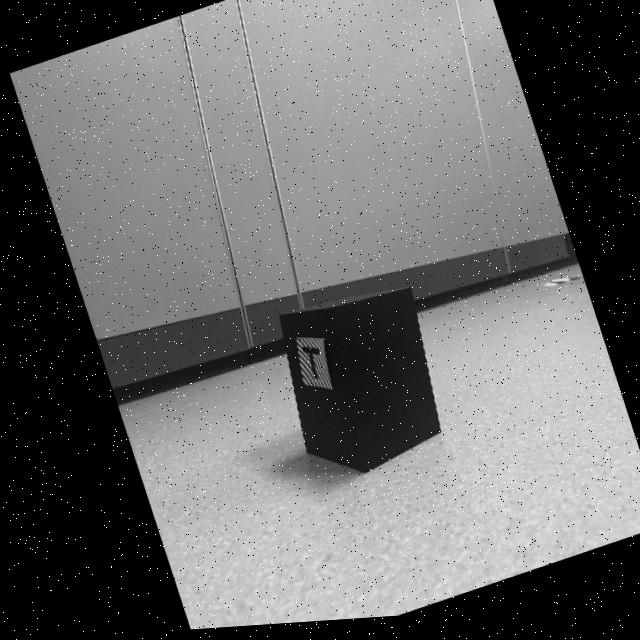T: (298, 350, 316, 383)
